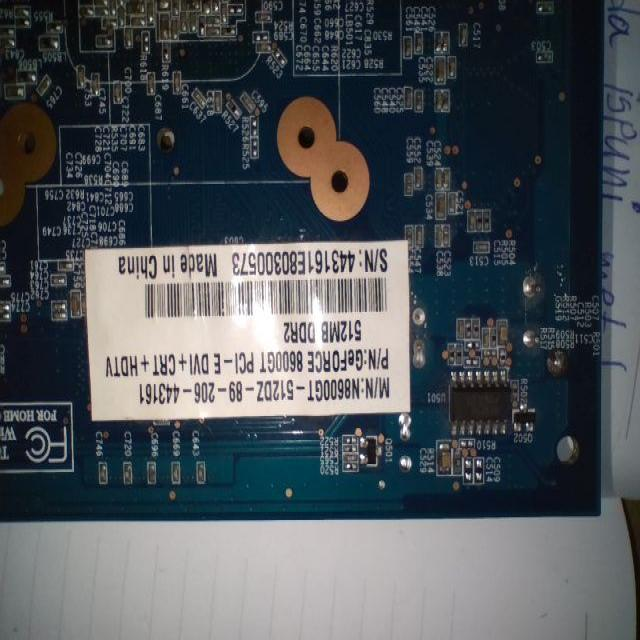capacitor: (119, 455, 138, 499), (191, 458, 211, 492), (145, 458, 160, 489), (95, 459, 108, 492), (434, 58, 447, 90), (37, 76, 52, 100), (173, 70, 185, 97), (6, 86, 27, 100), (170, 463, 180, 489), (214, 92, 225, 114), (415, 31, 425, 54), (256, 43, 273, 56), (461, 22, 470, 46), (434, 166, 445, 185), (406, 86, 414, 112), (435, 224, 443, 248), (244, 96, 256, 110), (114, 81, 120, 108), (404, 38, 411, 61), (82, 67, 86, 88)
resistor: (15, 69, 39, 81), (228, 98, 240, 120), (276, 50, 287, 67), (199, 15, 205, 42), (250, 141, 258, 161), (223, 27, 238, 36), (250, 120, 258, 136)
